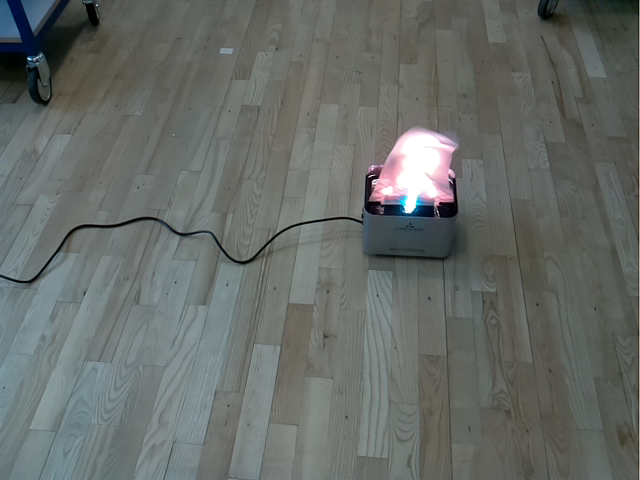fire: (368, 125, 459, 206)
